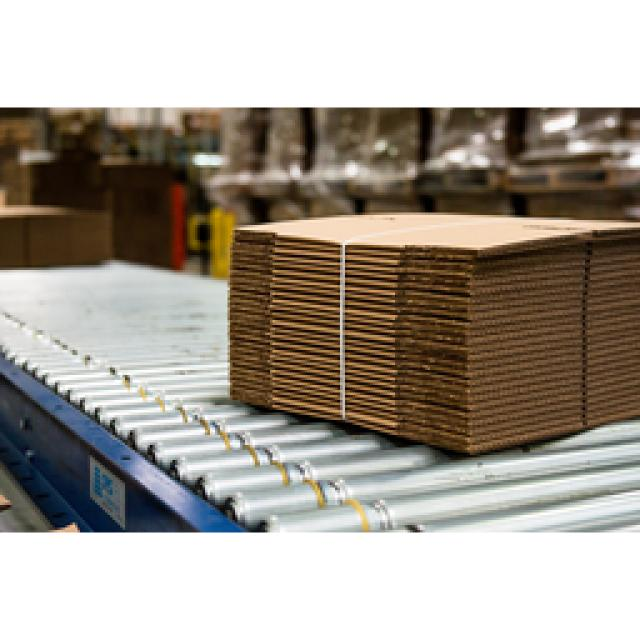cardboard: (230, 212, 638, 452), (0, 205, 112, 265)
